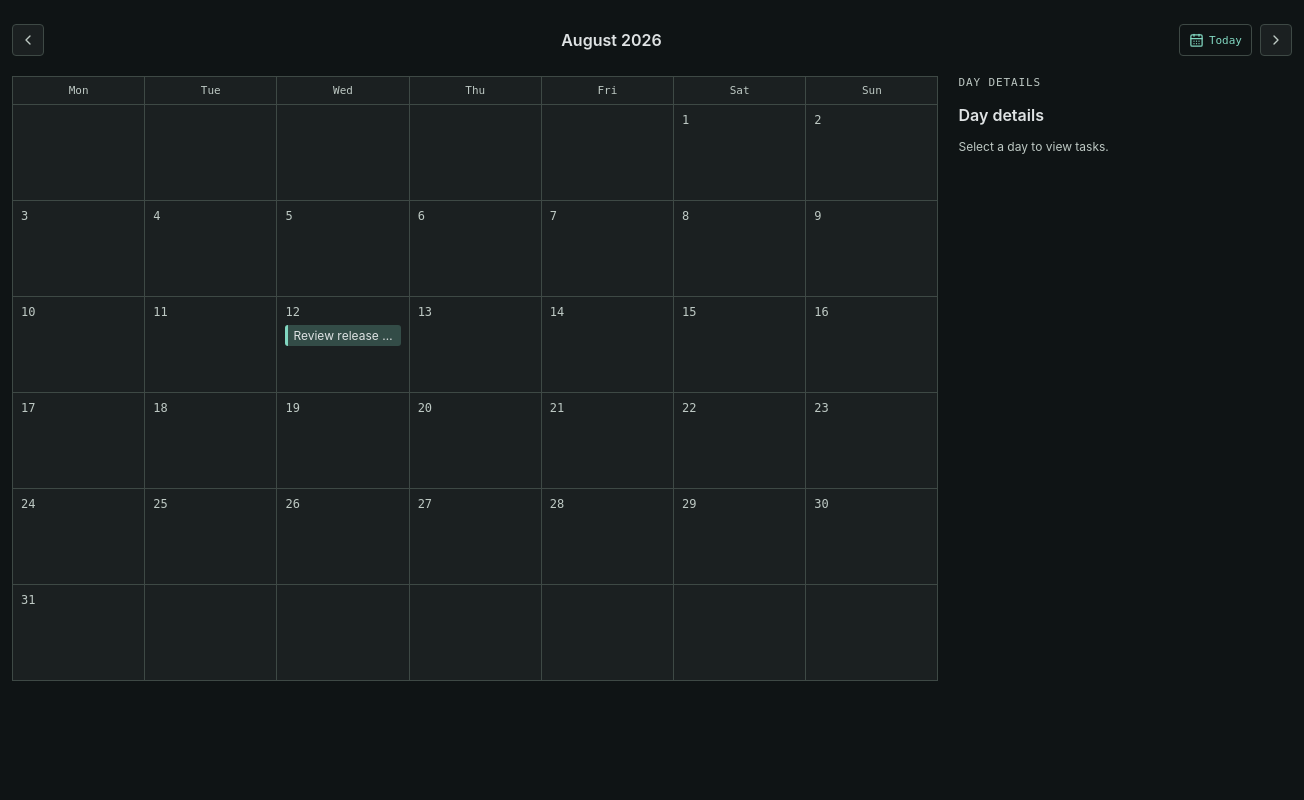
Scenario: shows the selected date details without rendering tasks in adjacent month cells
What coordinates should you click on to do the following:
click the button with aria-label "Wednesday, August 12, 2026, 1 tasks, 0 completed"
I would click on:
 (344, 345)
Its box is x1=277 y1=297 x2=410 y2=393.
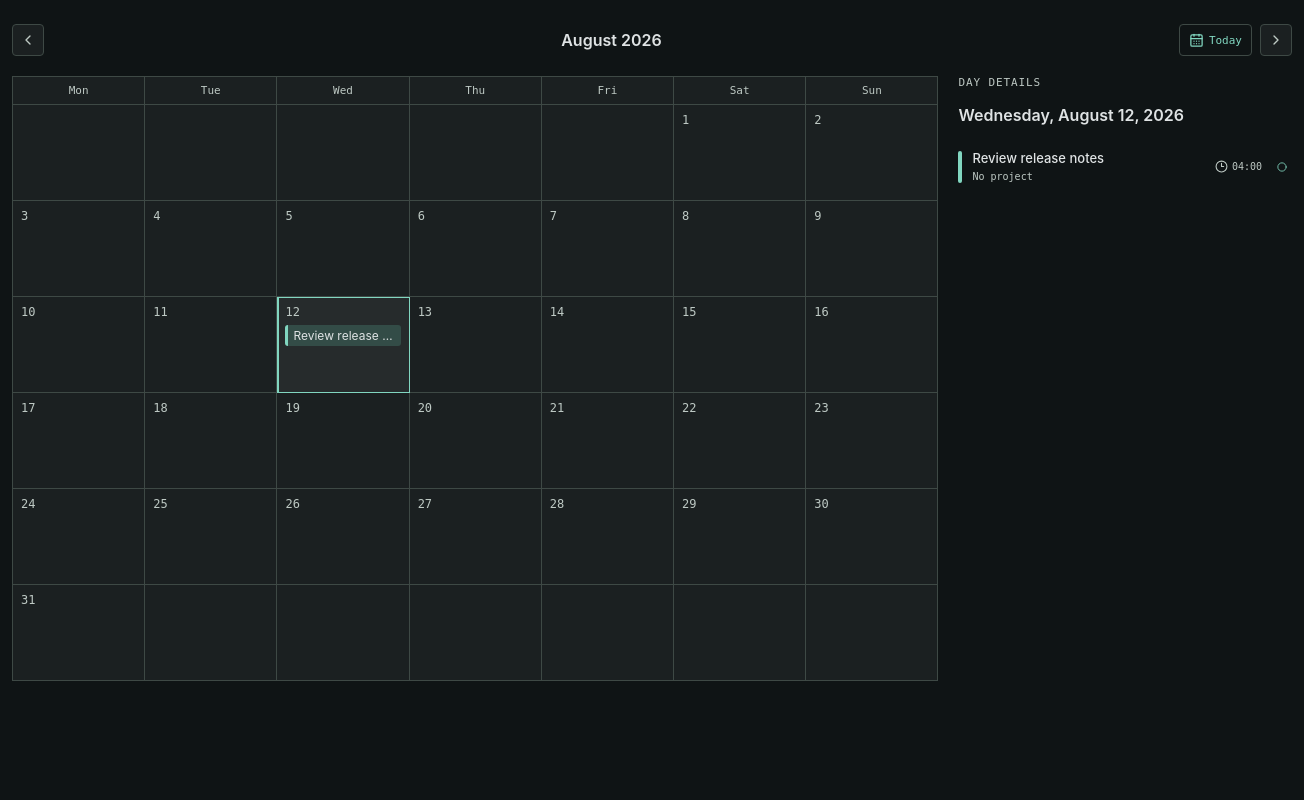
Now the heading "Wednesday, August 12, 2026" is shown, box x1=958 y1=105 x2=1184 y2=125
Now the text "Review release notes" next to "04:00" is shown, box x1=972 y1=150 x2=1104 y2=166
